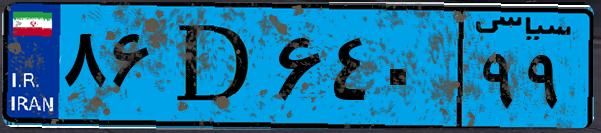0: (385, 28, 445, 110)
4: (330, 28, 385, 110)
6: (270, 28, 330, 110), (110, 28, 158, 98)
8: (57, 26, 110, 100)
9: (475, 38, 525, 113), (525, 38, 570, 115)
D: (158, 12, 270, 120)
